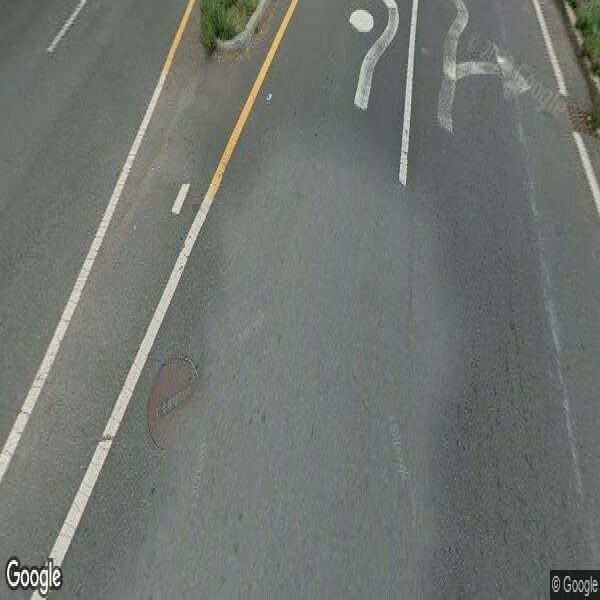manhole: (141, 349, 206, 455)
